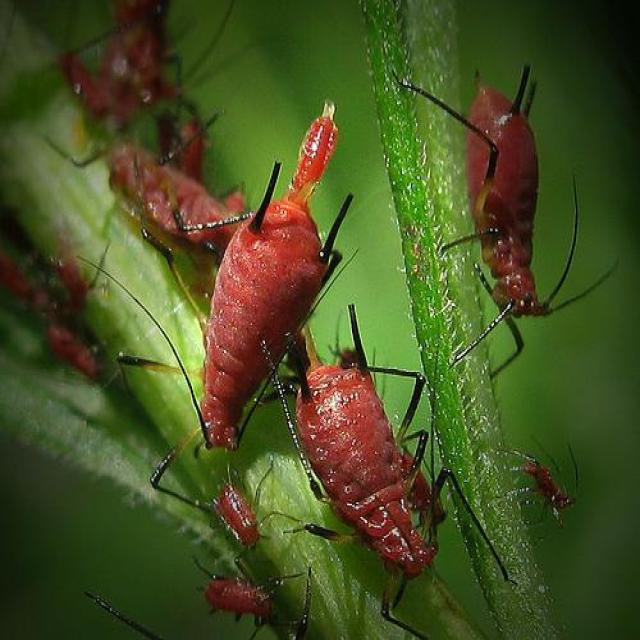Aphids: (394, 58, 613, 406), (148, 104, 350, 445), (269, 313, 467, 586)
